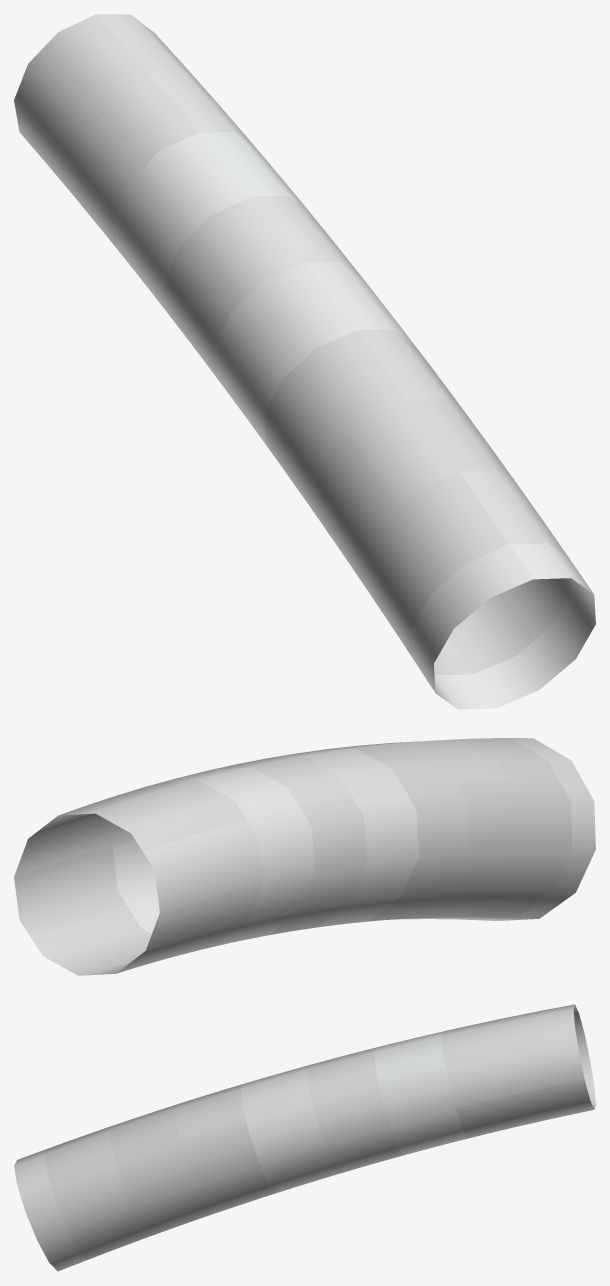
Rendered from luminairearm_laupsweep10ft_c5.obj.
The picture shows the model from 3 angles, top to bottom: view 1: azimuth 30°, elevation 25°; view 2: azimuth 150°, elevation 25°; view 3: azimuth 270°, elevation 25°; orthographic projection. The views are drawn at different scales.
Parts seen in each view (by area): view 1: luminairearm_laupsweep10ft_c5; view 2: luminairearm_laupsweep10ft_c5; view 3: luminairearm_laupsweep10ft_c5.
Part boxes in pixels (<box>): luminairearm_laupsweep10ft_c5: <box>14,14,595,709</box>; luminairearm_laupsweep10ft_c5: <box>14,738,595,975</box>; luminairearm_laupsweep10ft_c5: <box>14,1004,595,1271</box>.
Size of the model in its own units: 0.2188 by 0.5169 by 1.06.
